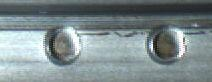joints: (41, 25, 82, 66), (145, 24, 186, 65)
